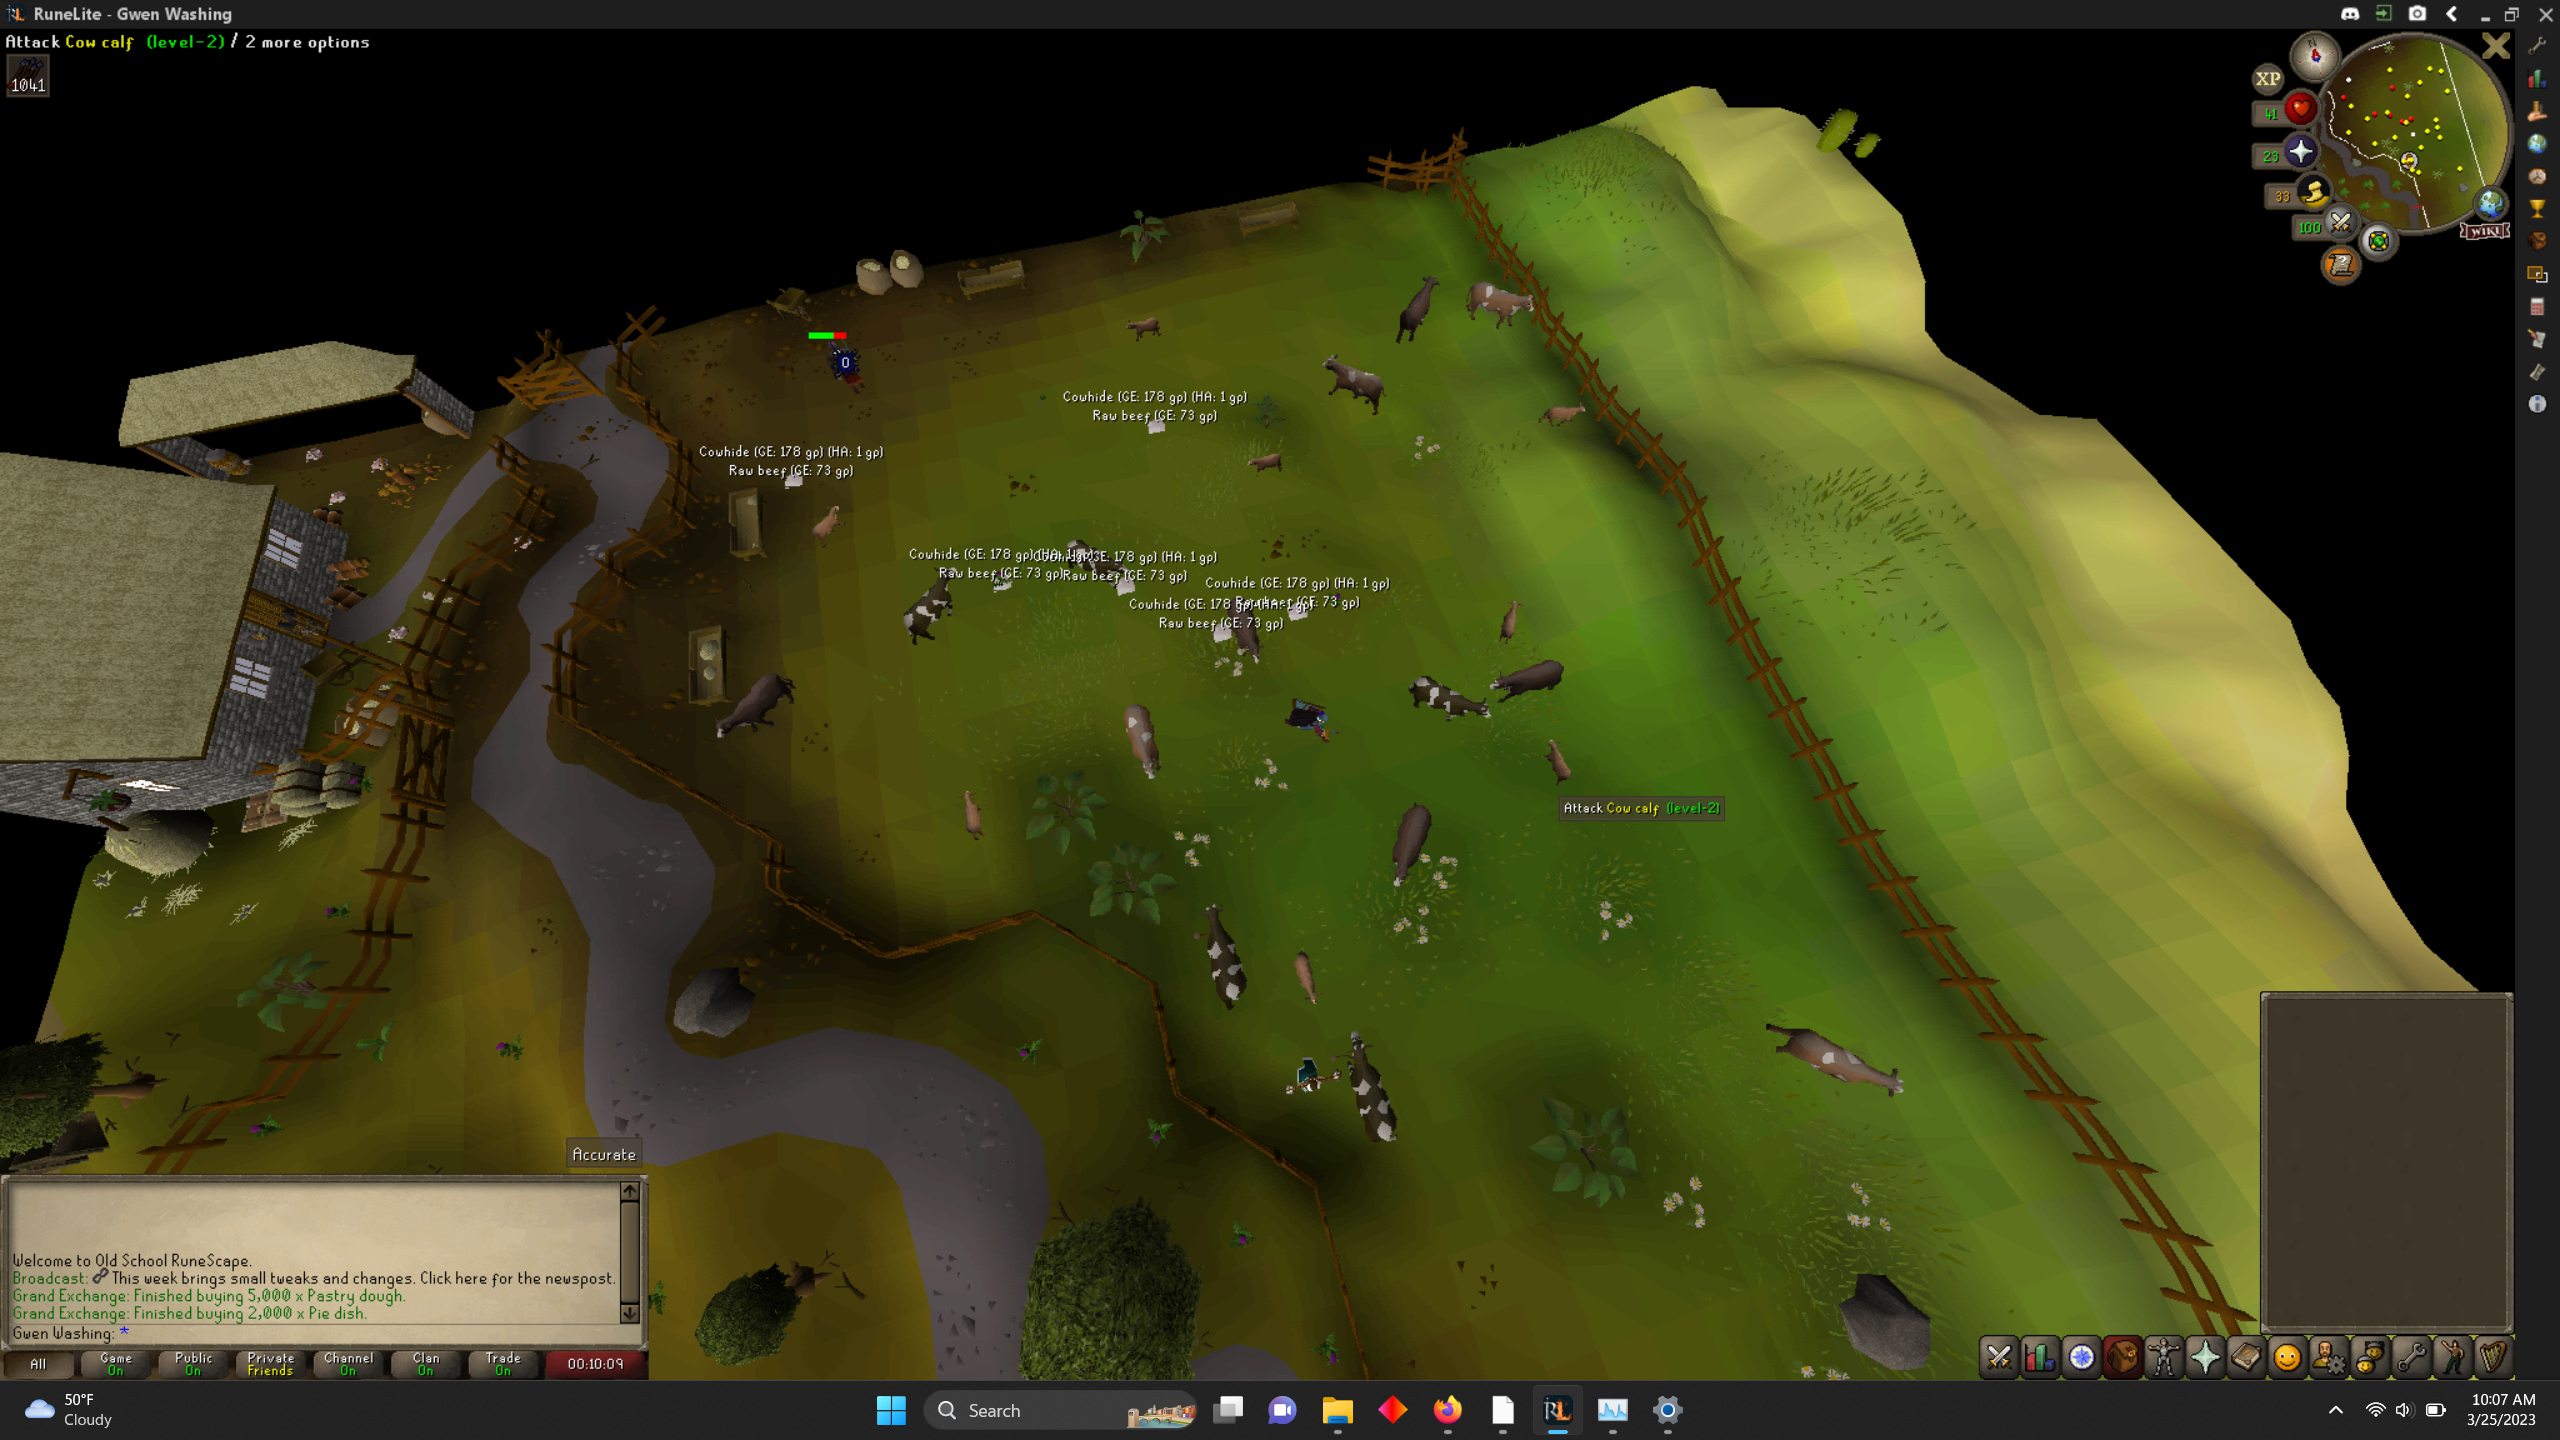cow: (1758, 1016, 1915, 1108), (1336, 1027, 1407, 1155), (710, 666, 804, 754), (1190, 893, 1255, 1018), (900, 559, 962, 658), (1385, 793, 1436, 905), (1405, 672, 1495, 730), (1315, 352, 1394, 417), (1487, 654, 1574, 712), (1116, 695, 1169, 784), (1459, 278, 1537, 329), (1064, 535, 1129, 594), (1220, 591, 1269, 668), (1396, 273, 1445, 348), (1284, 941, 1322, 1006), (809, 496, 851, 549), (1537, 735, 1577, 788), (956, 782, 986, 849), (1540, 396, 1595, 429), (1248, 445, 1296, 478), (1125, 311, 1171, 345), (1496, 600, 1526, 642)
